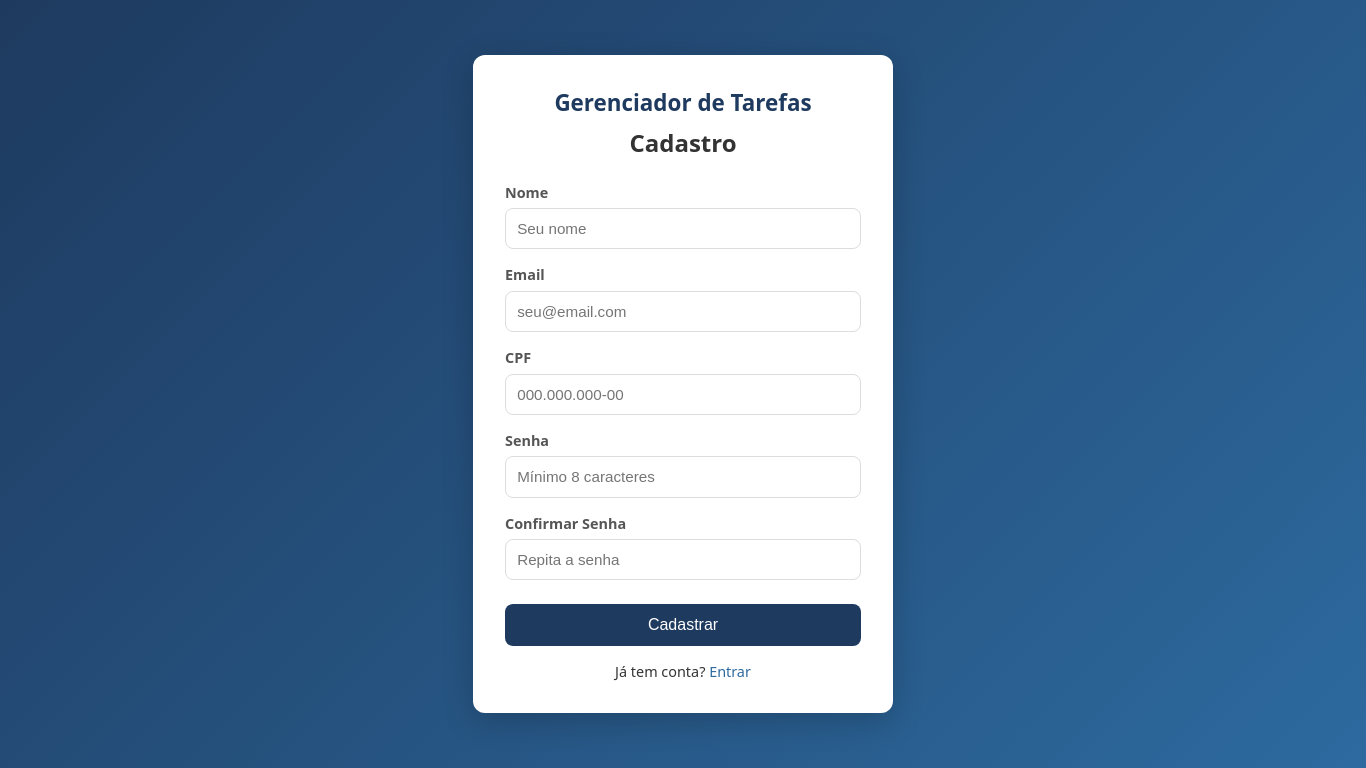
Test: Autenticação › não deve cadastrar com email inválido
This screenshot has width=1366, height=768.
Type "Cypress User" into the field with placeholder "Seu nome" at (683, 229), box [505,208,861,249]
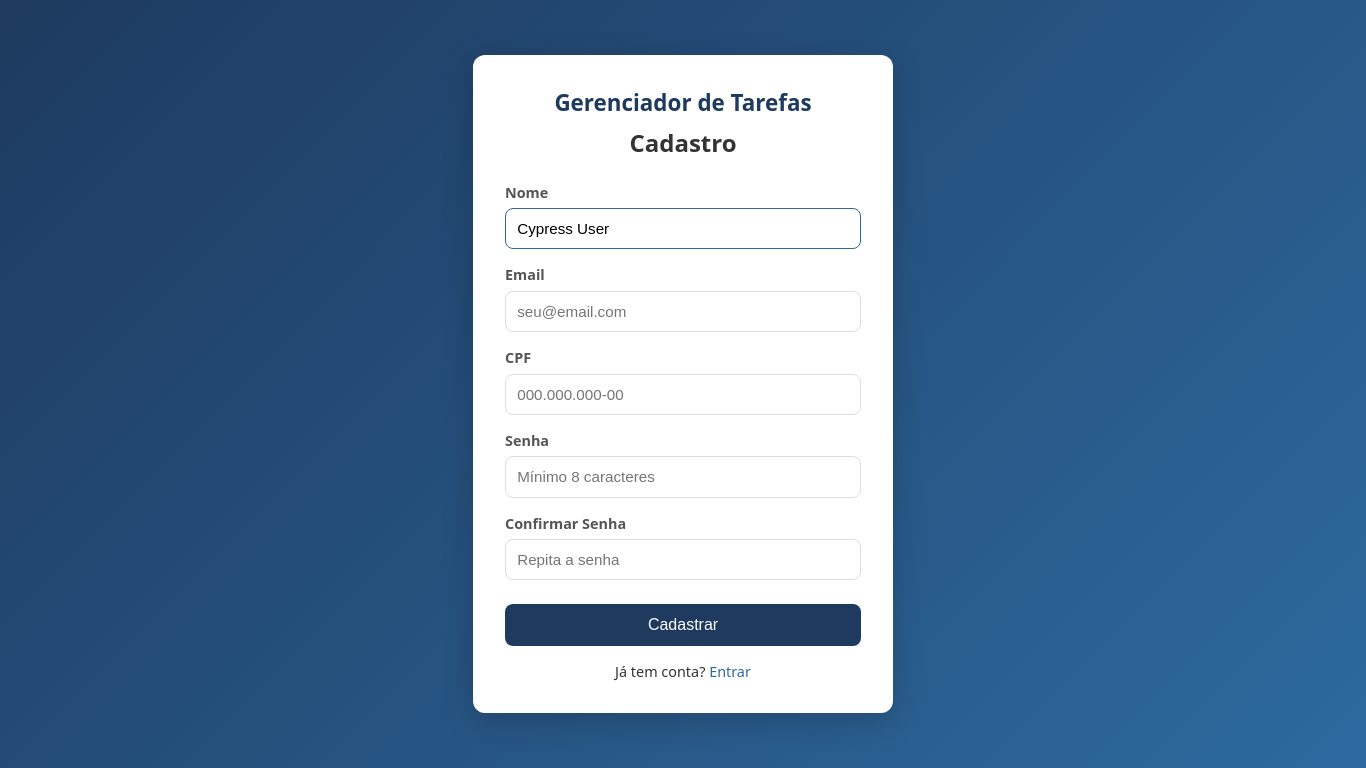
Type "emailinvalido" into the field with placeholder "seu@email.com" at (683, 312), box [505,291,861,332]
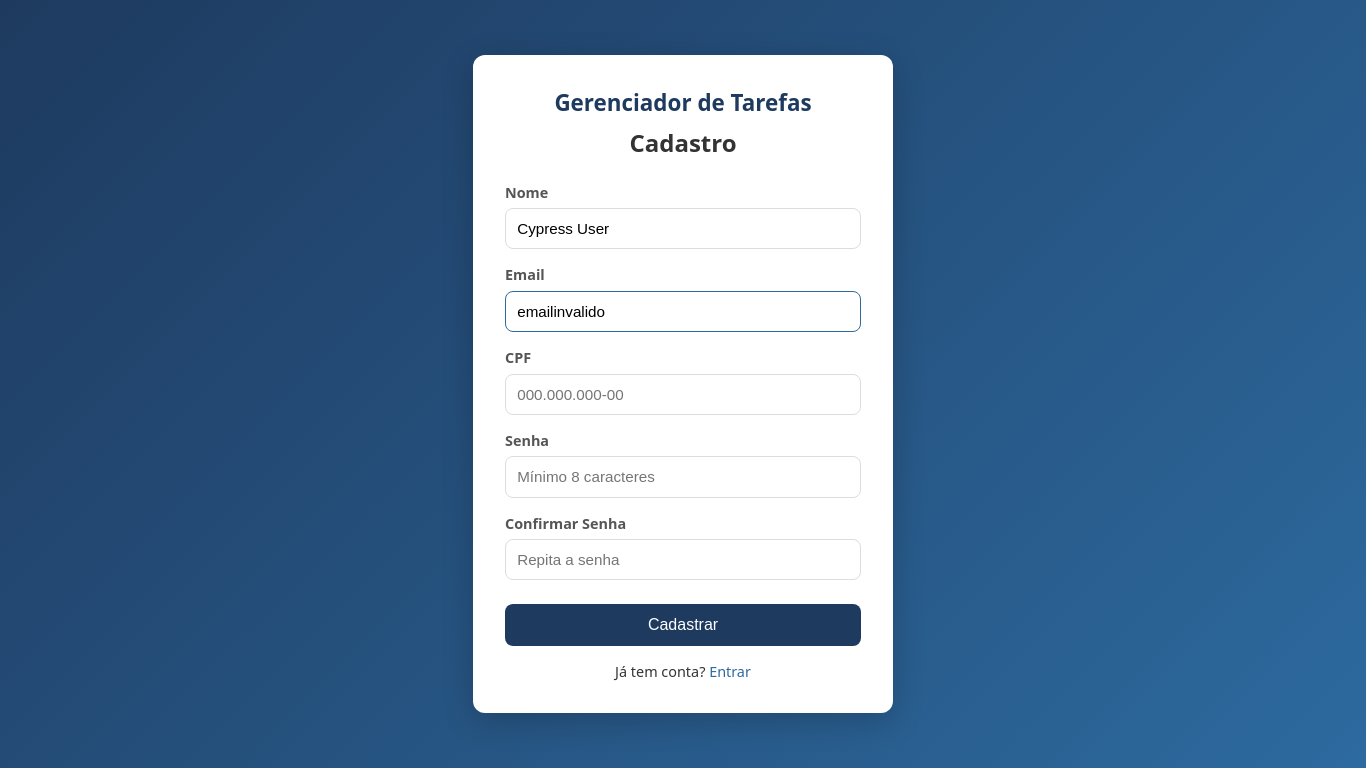
Type "529.982.247-25" into the field with placeholder "000.000.000-00" at (683, 395), box [505,374,861,415]
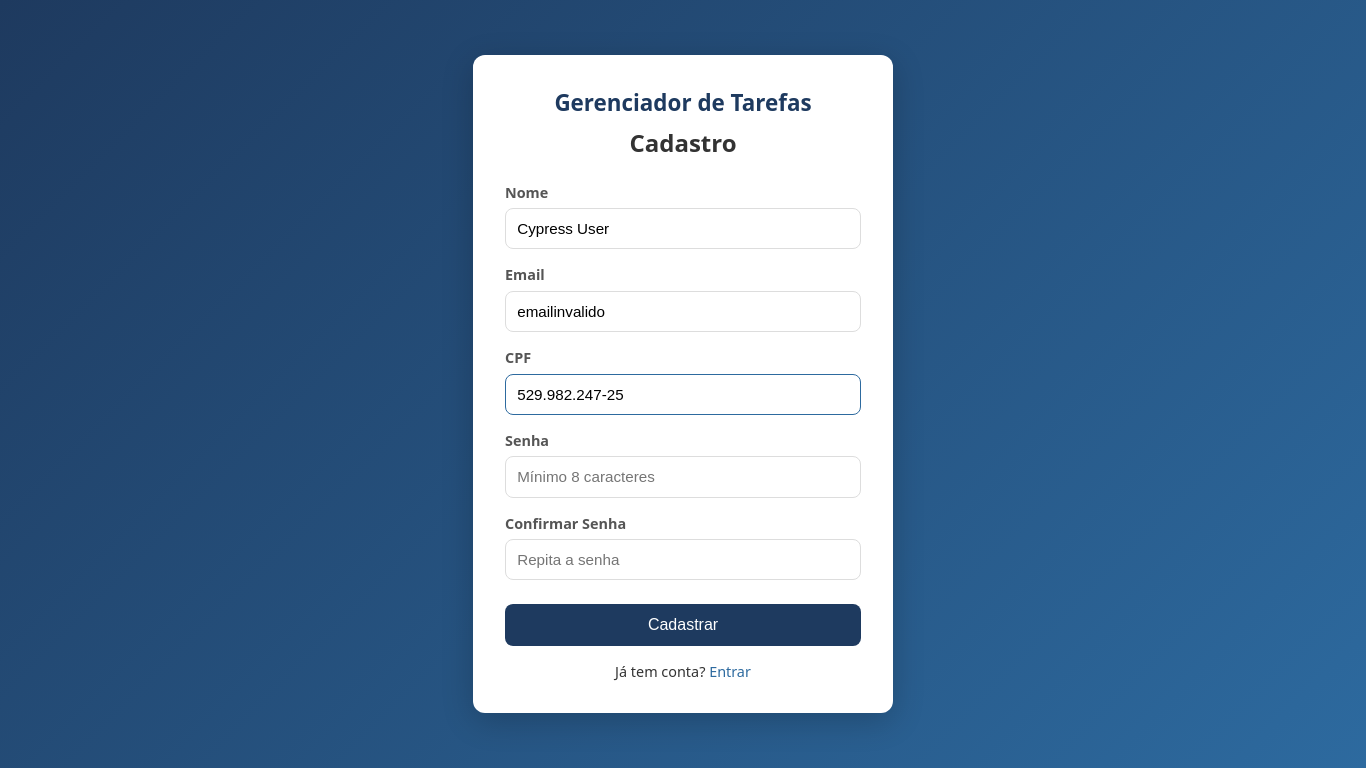
Type "Senha123" into the password field with placeholder "Mínimo 8 caracteres" at (683, 477), box [505,456,861,497]
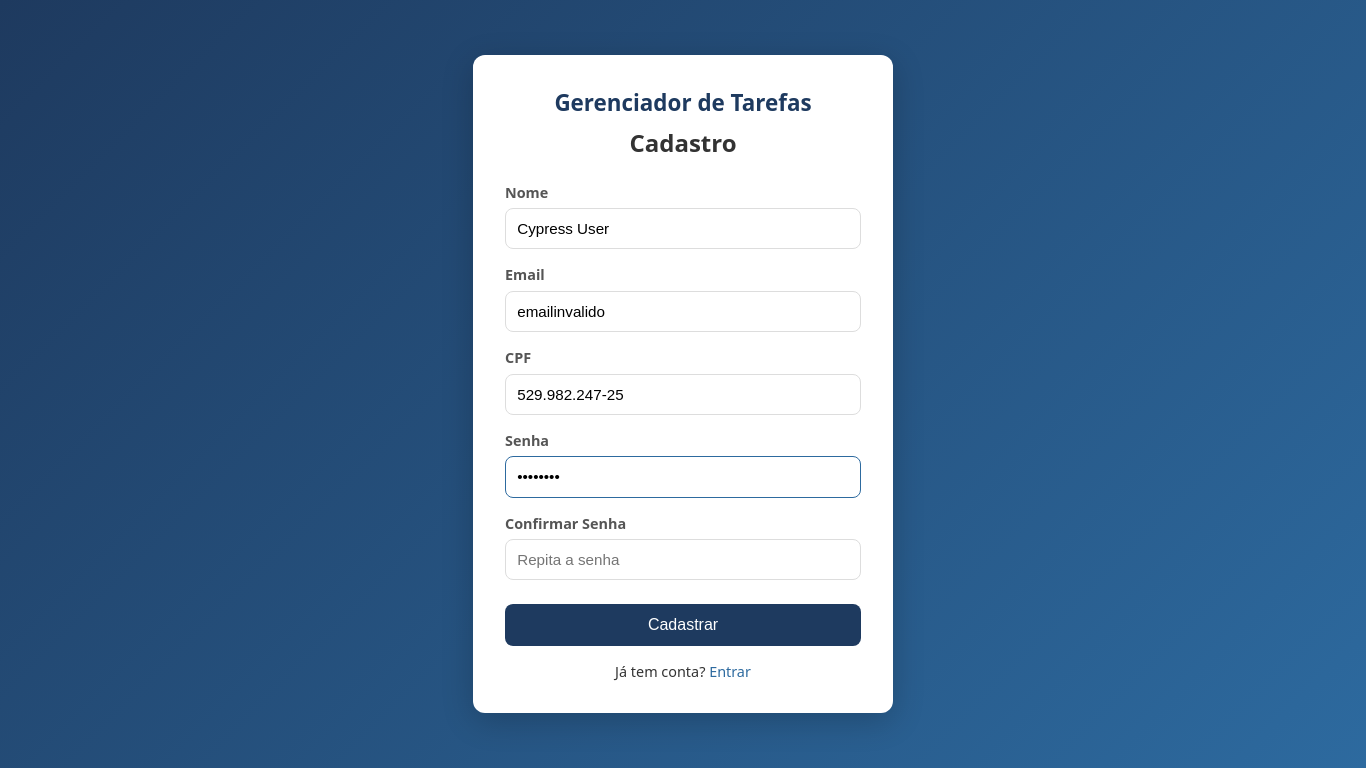
Type "Senha123" into the password field with placeholder "Repita a senha" at (683, 560), box [505,539,861,580]
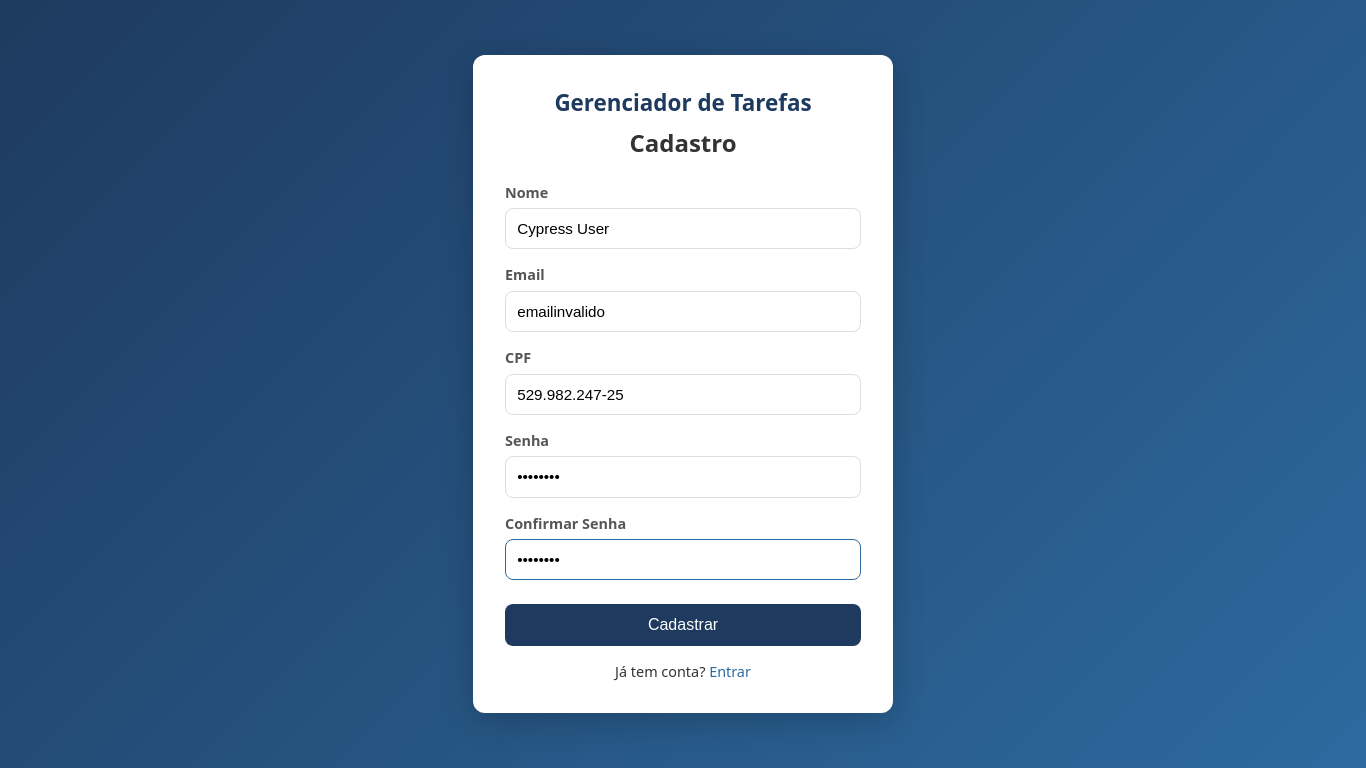
Click the submit button at (683, 625), box [505,604,861,646]
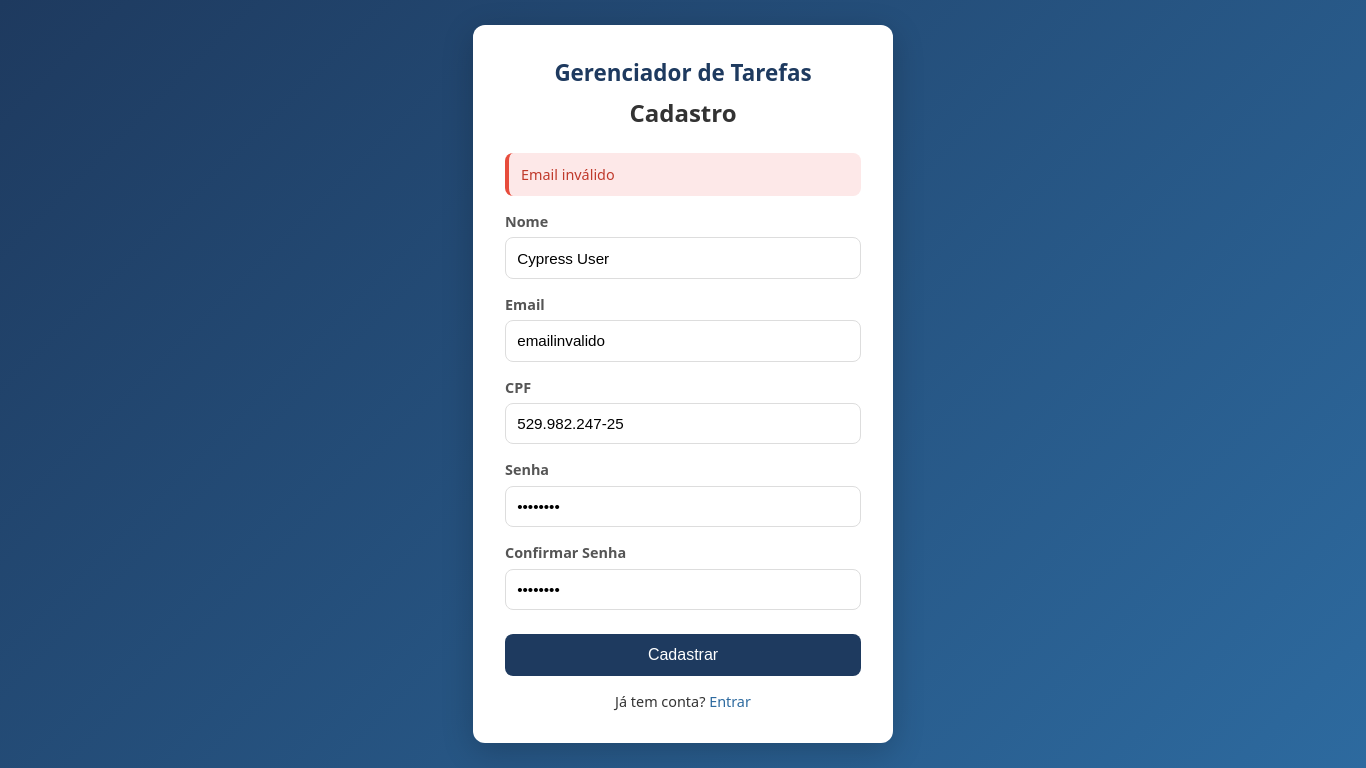
Result: the text "Email inválido" is shown at [505,153,861,196]
